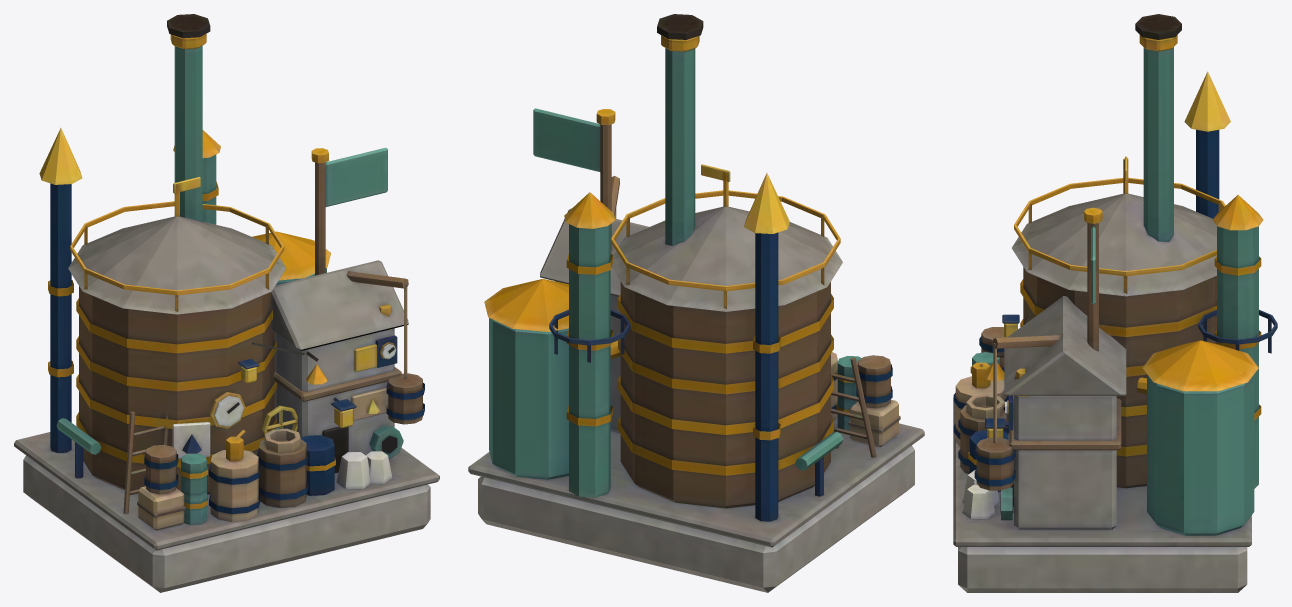
The model's file is refinery-25.glb.
3 views of the same model, side by side, from view 1: azimuth 30°, elevation 25°; view 2: azimuth 150°, elevation 25°; view 3: azimuth 270°, elevation 25° (orthographic). The views are drawn at different scales.
Visible parts, largest first — view 1: refinery-25; view 2: refinery-25; view 3: refinery-25.
Part boxes in pixels (x1,y1,x2,y2): refinery-25: (14,14,439,592); refinery-25: (468,14,924,592); refinery-25: (953,14,1277,592).
Bounding box in the file's own units: 1.55 × 2.35 × 1.39.
Materials: 1 (1 with a texture image).
